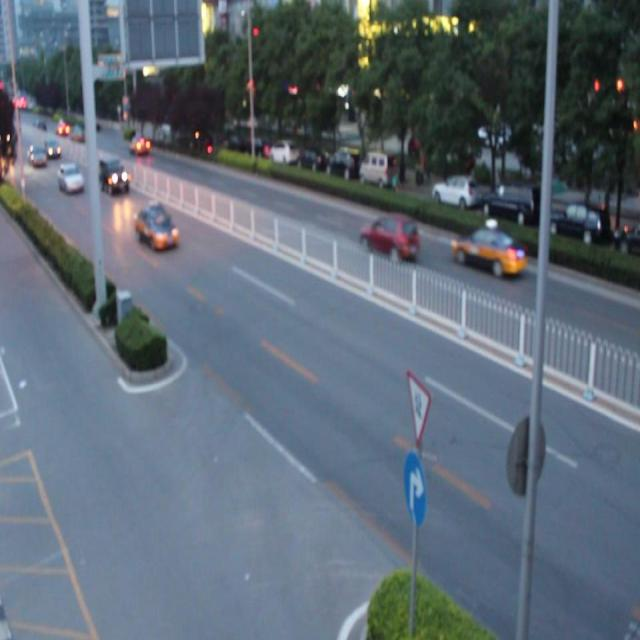car: (454, 231, 519, 274), (361, 220, 416, 260), (135, 207, 178, 248), (100, 161, 128, 190), (58, 166, 82, 192)
